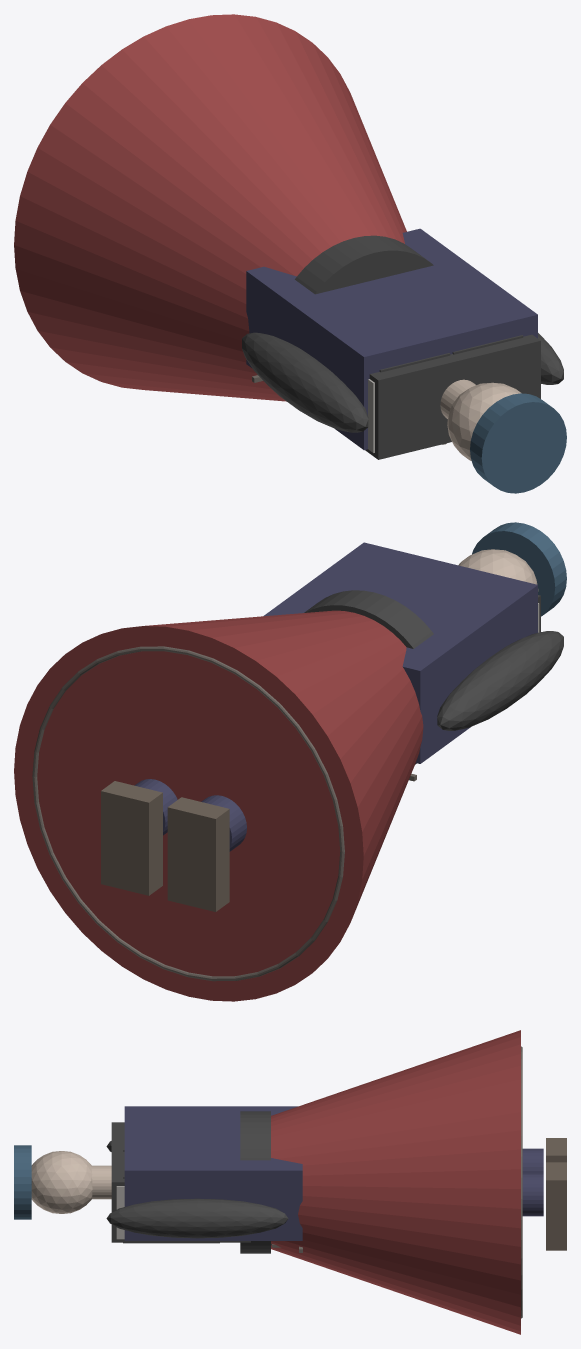
The model's file is MASTER_021_STAGE3_DETAIL.glb.
The picture shows the model from 3 angles, top to bottom: view 1: azimuth 30°, elevation 25°; view 2: azimuth 150°, elevation 25°; view 3: azimuth 270°, elevation 25°; orthographic projection. The views are drawn at different scales.
Parts seen in each view (by area): view 1: slot_lower_main__fund_i_gjatë, slot_outerwear__xhokë/xhulia, slot_upper_inner__këmishë, slot_headwear__mbulesë_koke, slot_upper_inner_sleeve_L, slot_waist__brez, mannequin_head, slot_upper_inner_sleeve_R; view 2: slot_lower_main__fund_i_gjatë, slot_outerwear__xhokë/xhulia, slot_footwear__opinga_L, slot_footwear__opinga_R, slot_upper_inner_sleeve_L, detail_skirt_hem, slot_headwear__mbulesë_koke, slot_waist__brez, mannequin_head, slot_legwear__çorape_L, slot_legwear__çorape_R; view 3: slot_lower_main__fund_i_gjatë, slot_outerwear__xhokë/xhulia, slot_upper_inner_sleeve_R, mannequin_head, slot_waist__brez, slot_footwear__opinga_R, slot_headwear__mbulesë_koke, slot_upper_inner__këmishë, slot_legwear__çorape_R, mannequin_neck, slot_legwear__çorape_L, detail_skirt_hem (+1 smaller).
Boxes of the visible parts, left/top/right/bottom form: slot_lower_main__fund_i_gjatë: left=14, top=14, right=406, bottom=401; slot_outerwear__xhokë/xhulia: left=246, top=228, right=537, bottom=450; slot_upper_inner__këmishë: left=365, top=334, right=540, bottom=459; slot_headwear__mbulesë_koke: left=470, top=393, right=566, bottom=493; slot_upper_inner_sleeve_L: left=242, top=332, right=368, bottom=432; slot_waist__brez: left=295, top=235, right=433, bottom=294; mannequin_head: left=447, top=382, right=521, bottom=460; slot_upper_inner_sleeve_R: left=538, top=333, right=563, bottom=384; slot_lower_main__fund_i_gjatë: left=14, top=610, right=423, bottom=1001; slot_outerwear__xhokë/xhulia: left=263, top=542, right=537, bottom=763; slot_footwear__opinga_L: left=167, top=797, right=229, bottom=911; slot_footwear__opinga_R: left=101, top=781, right=162, bottom=895; slot_upper_inner_sleeve_L: left=437, top=631, right=563, bottom=730; detail_skirt_hem: left=32, top=646, right=344, bottom=981; slot_headwear__mbulesë_koke: left=472, top=522, right=566, bottom=616; slot_waist__brez: left=304, top=590, right=433, bottom=764; mannequin_head: left=458, top=549, right=538, bottom=591; slot_legwear__çorape_L: left=201, top=795, right=246, bottom=851; slot_legwear__çorape_R: left=134, top=779, right=177, bottom=835; slot_lower_main__fund_i_gjatë: left=271, top=1030, right=520, bottom=1334; slot_outerwear__xhokë/xhulia: left=124, top=1106, right=302, bottom=1240; slot_upper_inner_sleeve_R: left=106, top=1198, right=288, bottom=1238; mannequin_head: left=31, top=1151, right=92, bottom=1213; slot_waist__brez: left=240, top=1111, right=270, bottom=1253; slot_footwear__opinga_R: left=546, top=1162, right=566, bottom=1250; slot_headwear__mbulesë_koke: left=14, top=1145, right=31, bottom=1219; slot_upper_inner__këmishë: left=111, top=1122, right=250, bottom=1242; slot_legwear__çorape_R: left=522, top=1173, right=543, bottom=1216; mannequin_neck: left=91, top=1165, right=111, bottom=1199; slot_legwear__çorape_L: left=522, top=1148, right=543, bottom=1172; detail_skirt_hem: left=521, top=1046, right=522, bottom=1318.
Bounding box in the file's own units: 0.9435 × 0.9435 × 1.71.
